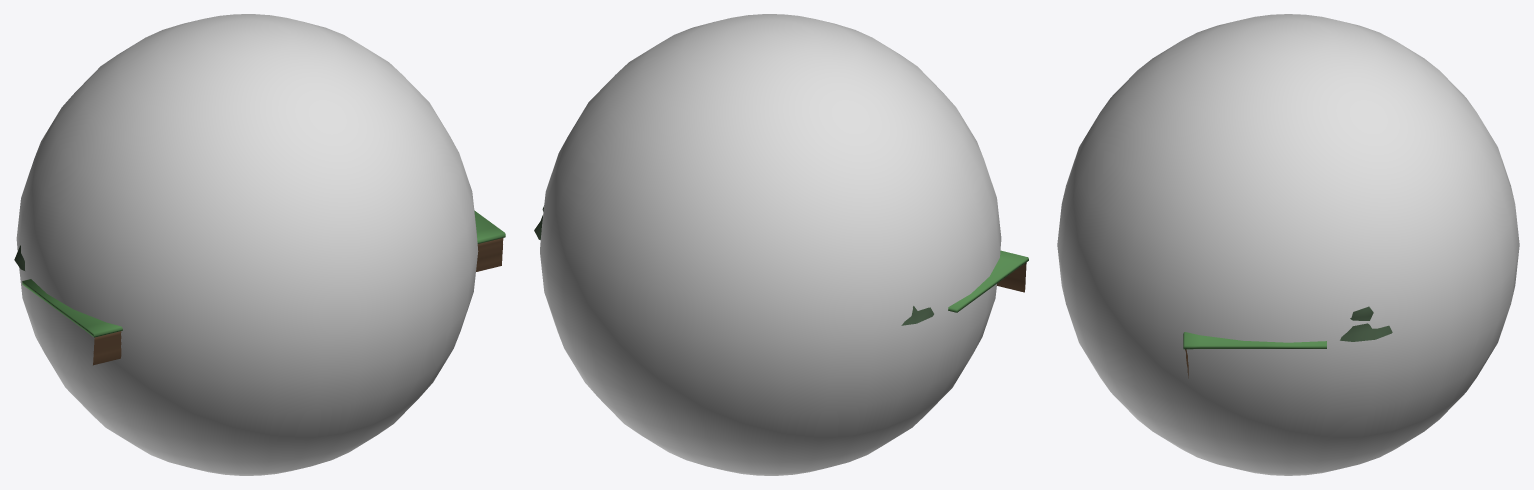
3 renders of one model, left to right at view 1: azimuth 30°, elevation 25°; view 2: azimuth 150°, elevation 25°; view 3: azimuth 270°, elevation 25°, orthographic.
Visible parts, largest first — view 1: SkySphere, GrassPlane, RockyWall; view 2: SkySphere, GrassPlane; view 3: SkySphere, GrassPlane, Mountains_2.
Boxes of the visible parts, x1,y1,x2,y2 form: SkySphere: [16, 14, 478, 475]; GrassPlane: [22, 210, 505, 337]; RockyWall: [93, 238, 503, 365]; SkySphere: [540, 14, 1001, 475]; GrassPlane: [948, 250, 1028, 312]; SkySphere: [1057, 14, 1519, 475]; GrassPlane: [1183, 332, 1326, 349]; Mountains_2: [1340, 306, 1392, 341].
Bounding box in the file's own units: 28174 × 27432 × 27432.
